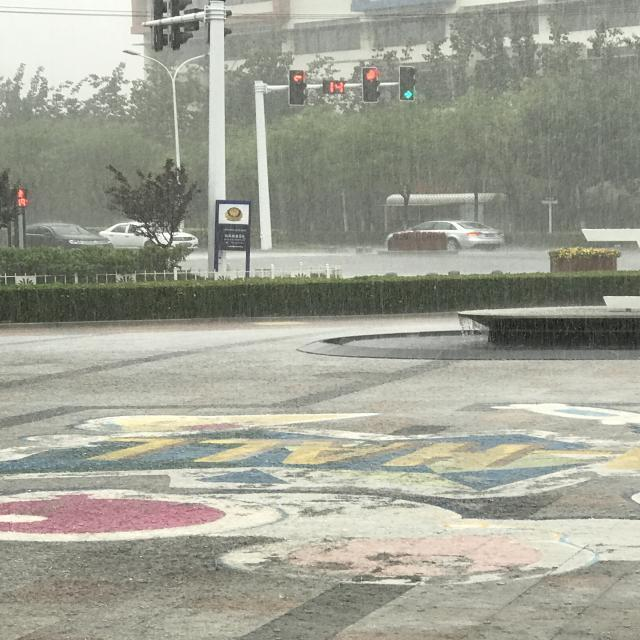car: (220, 137, 250, 256), (222, 442, 252, 540), (223, 528, 249, 616)
